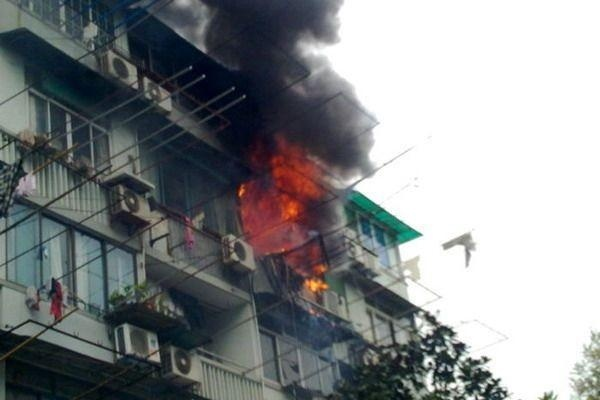fire: (238, 144, 331, 294)
